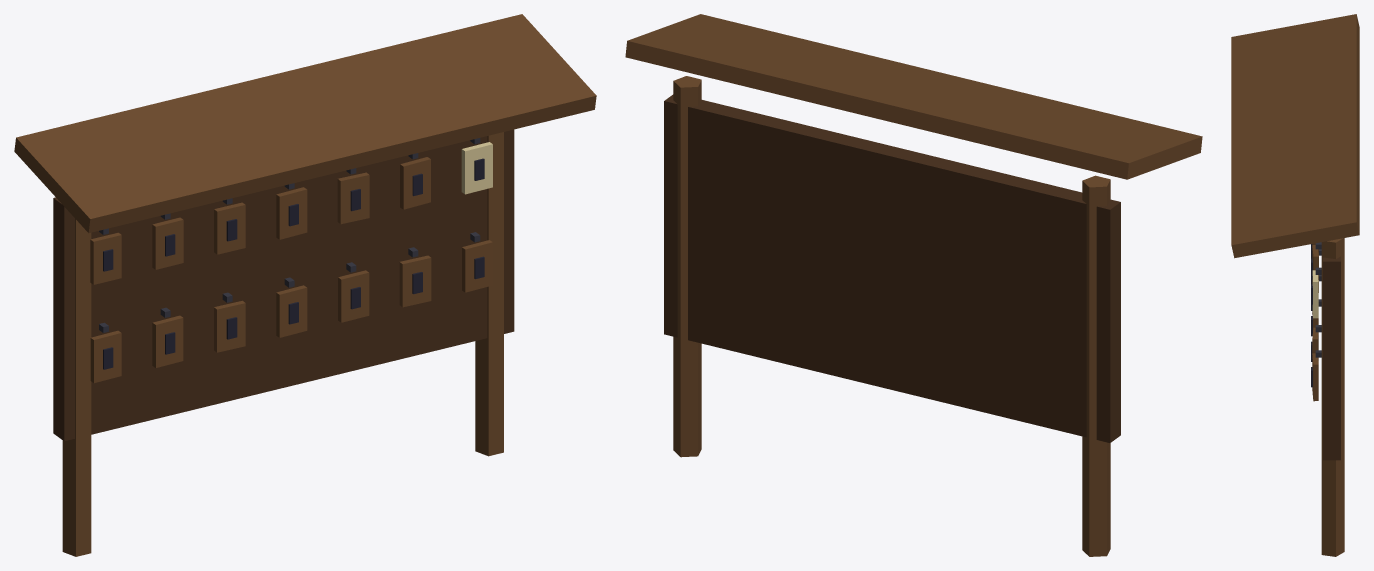
File: soegol_mokpae_board.glb
3 views of the same model, side by side, from view 1: azimuth 30°, elevation 25°; view 2: azimuth 150°, elevation 25°; view 3: azimuth 270°, elevation 25° (orthographic). The views are drawn at different scales.
Visible parts, largest first — view 1: soegol_mokpae_board; view 2: soegol_mokpae_board; view 3: soegol_mokpae_board.
Part boxes in pixels (left/top/right/bottom): soegol_mokpae_board: left=14, top=14, right=596, bottom=556; soegol_mokpae_board: left=625, top=14, right=1202, bottom=556; soegol_mokpae_board: left=1231, top=14, right=1359, bottom=556.
Size of the model in its own units: 2.7 by 2.11 by 0.7019.
